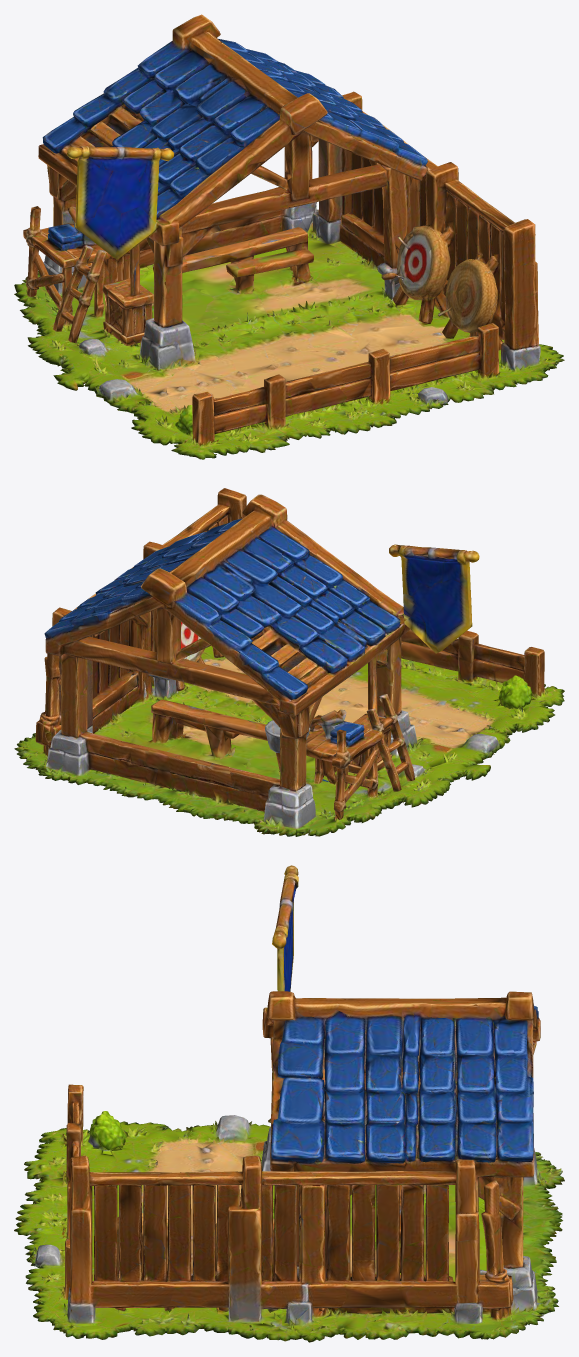
Rendered from arqueria_e3.glb.
The picture shows the model from 3 angles, top to bottom: view 1: azimuth 30°, elevation 25°; view 2: azimuth 150°, elevation 25°; view 3: azimuth 270°, elevation 25°; orthographic projection. The views are drawn at different scales.
Size of the model in its own units: 1.83 by 0.9917 by 1.9.
Materials: 1 (1 with a texture image).
